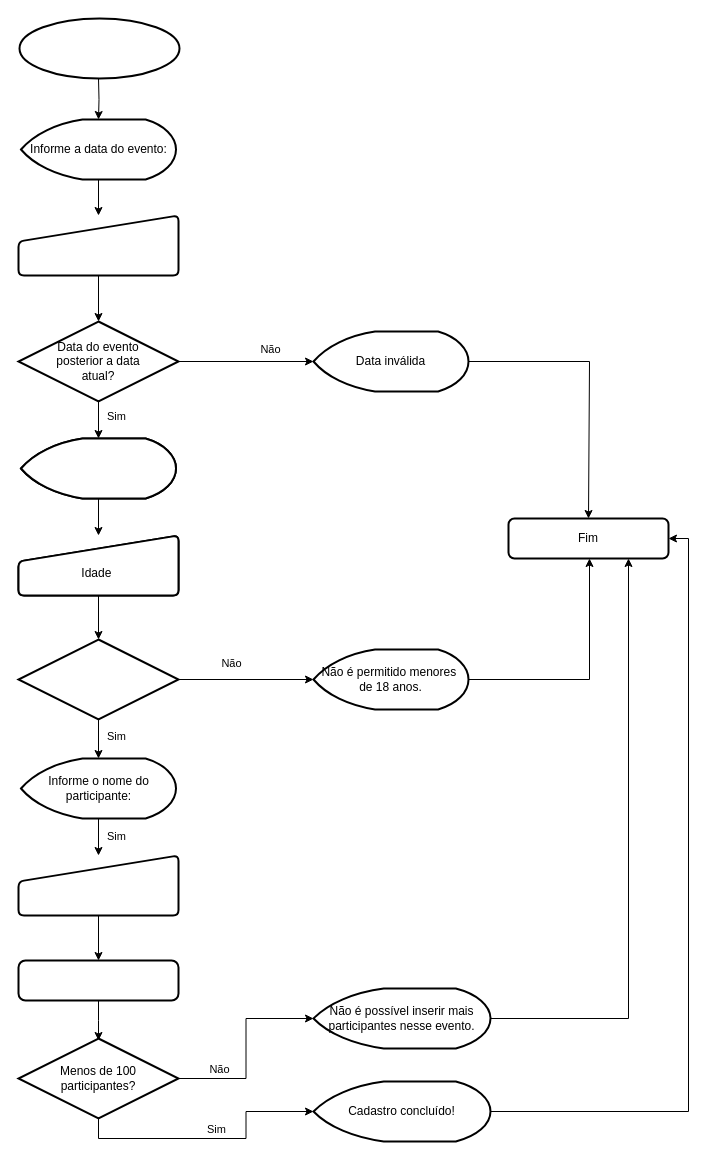
Some shapes in this 714 by 1164 pixel diagram are drawn without their labels. The shapes that lost their labels are listed below. From the top down, each one's box as (x1, y1, x2, y2) in pixels, then its label:
(18, 17, 180, 79): Cadastro
(17, 214, 179, 276): Data
(20, 437, 176, 499): Informe a idade do participante:
(17, 638, 179, 720): O participante tem mais de 18 anos?
(17, 854, 179, 916): Nome
(17, 959, 179, 1001): Listar participantes e palestrantes por evento
